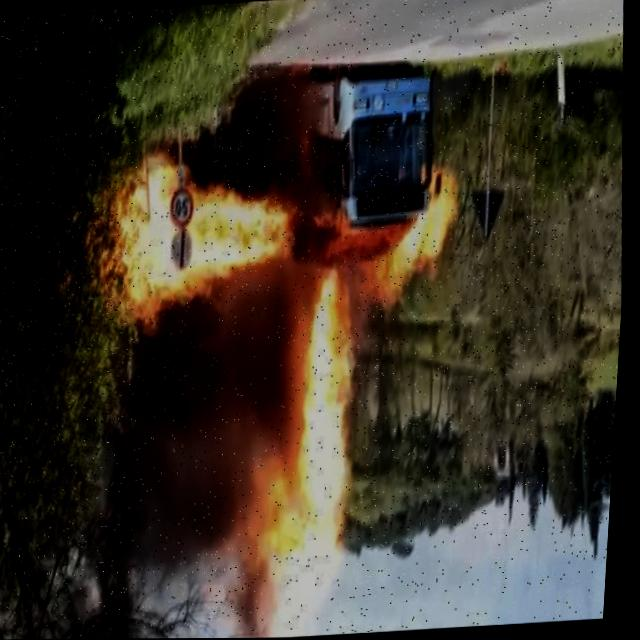Fire: (278, 269, 384, 598), (103, 151, 312, 311), (379, 175, 472, 288)
Smoke: (53, 307, 291, 605), (169, 52, 327, 198)
